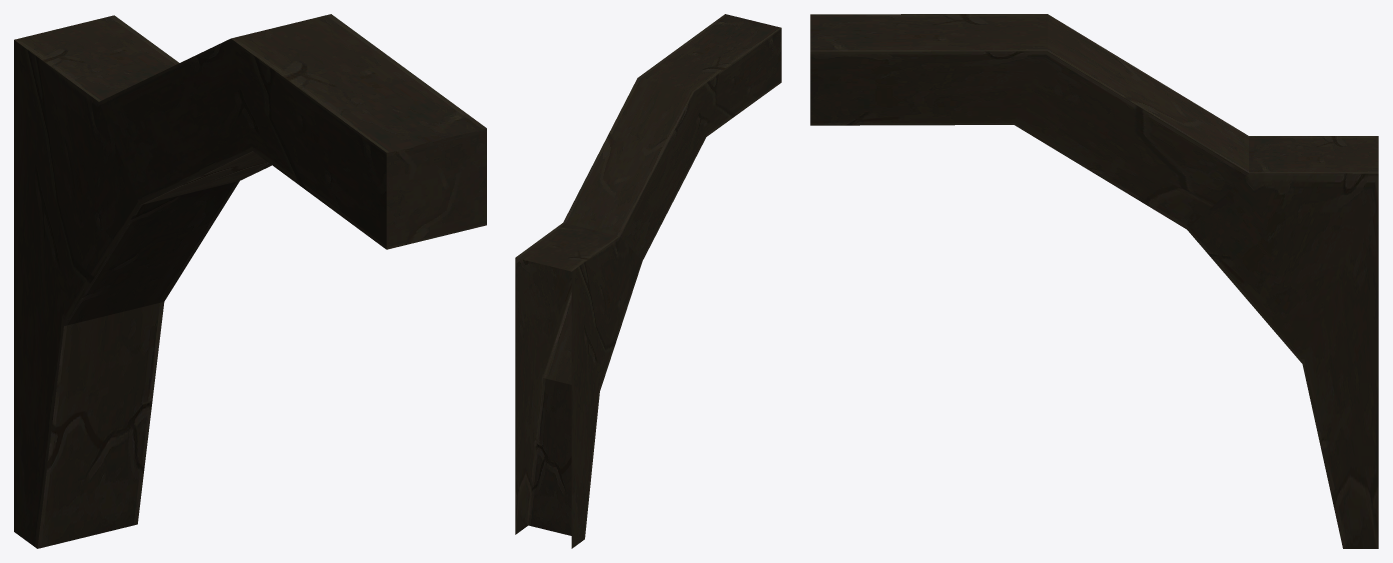
Rendered from fortress_arch_01.fbx.
3 views of the same model, side by side, from view 1: azimuth 30°, elevation 25°; view 2: azimuth 150°, elevation 25°; view 3: azimuth 270°, elevation 25° (orthographic). The views are drawn at different scales.
Parts seen in each view (by area): view 1: fortress_tileset/wall_01_mat; view 2: fortress_tileset/wall_01_mat; view 3: fortress_tileset/wall_01_mat.
Boxes of the visible parts, x1=… form: fortress_tileset/wall_01_mat: x1=14, y1=14, x2=486, y2=548; fortress_tileset/wall_01_mat: x1=515, y1=14, x2=781, y2=548; fortress_tileset/wall_01_mat: x1=810, y1=14, x2=1378, y2=548.
Size of the model in its own units: 1.17 by 7.29 by 7.55.
